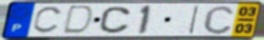1: (136, 4, 152, 36)
C: (201, 4, 236, 35), (98, 6, 133, 35), (31, 6, 65, 35)
D: (60, 4, 96, 36)
I: (187, 5, 202, 35)
